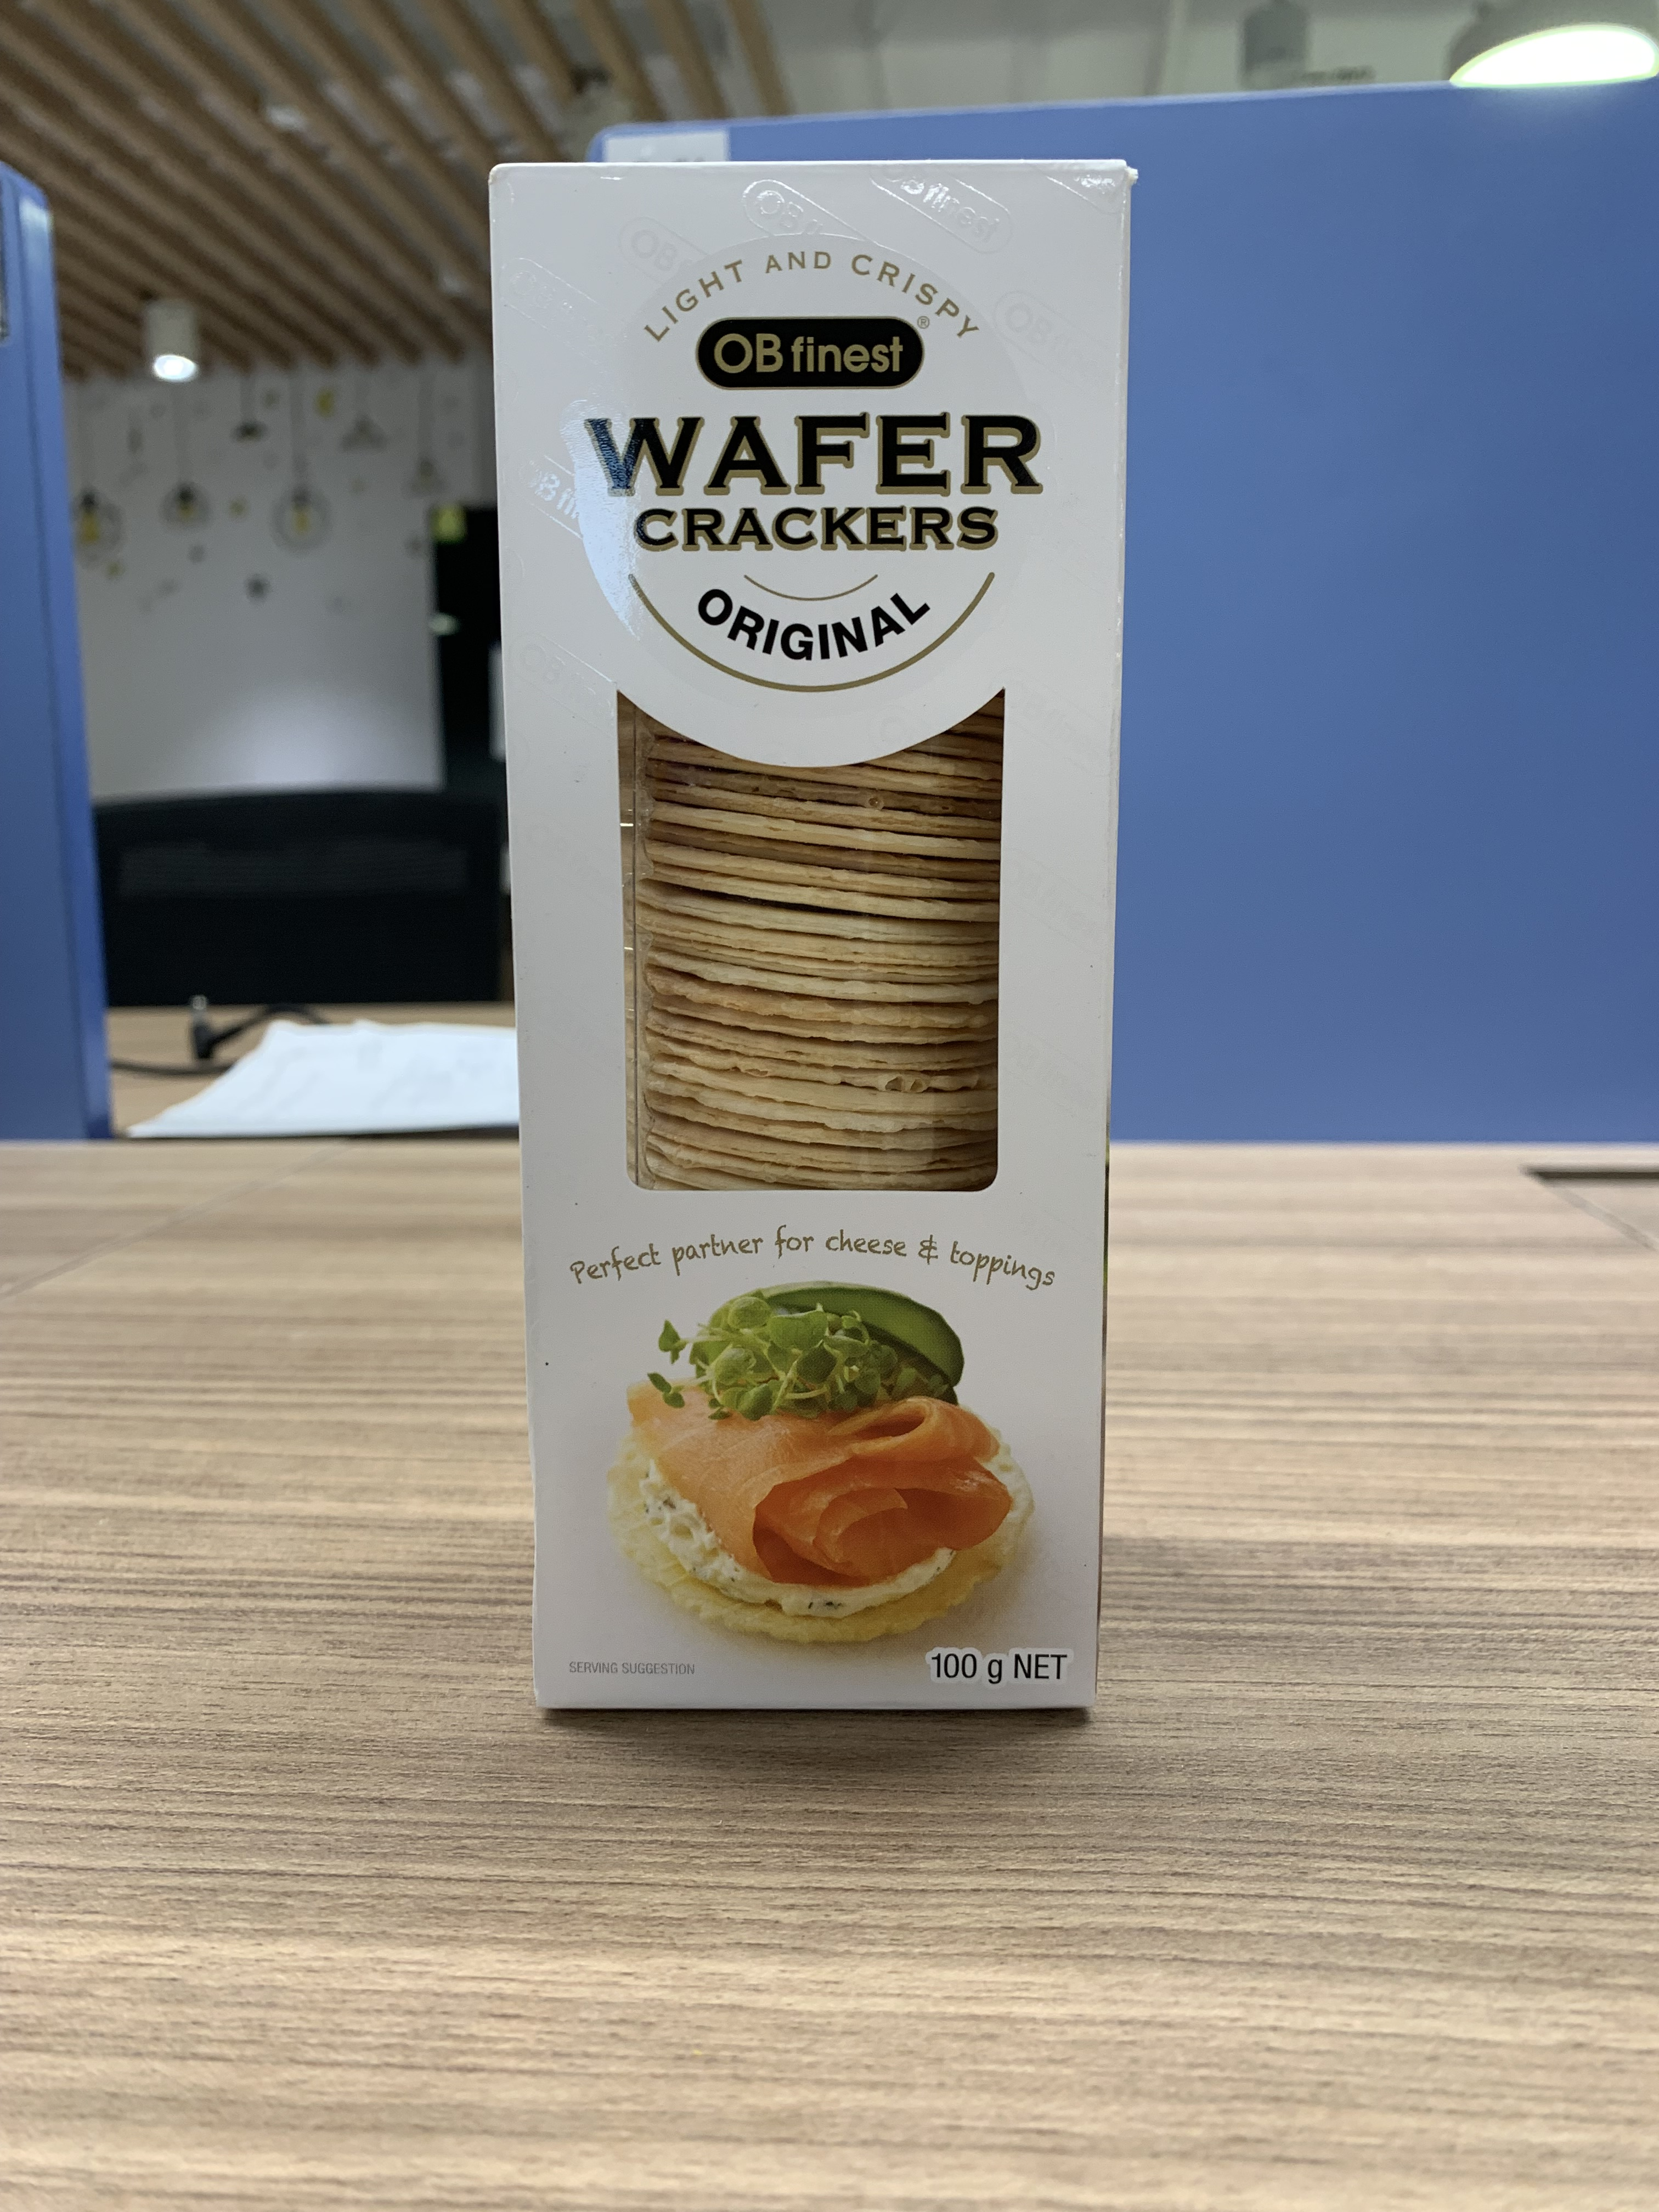crackers_100g-199g: (509, 176, 1091, 1698)
